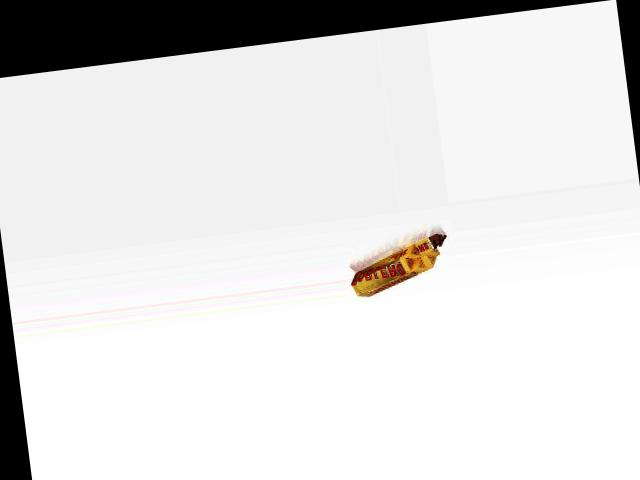chocolate: (346, 227, 453, 300)
